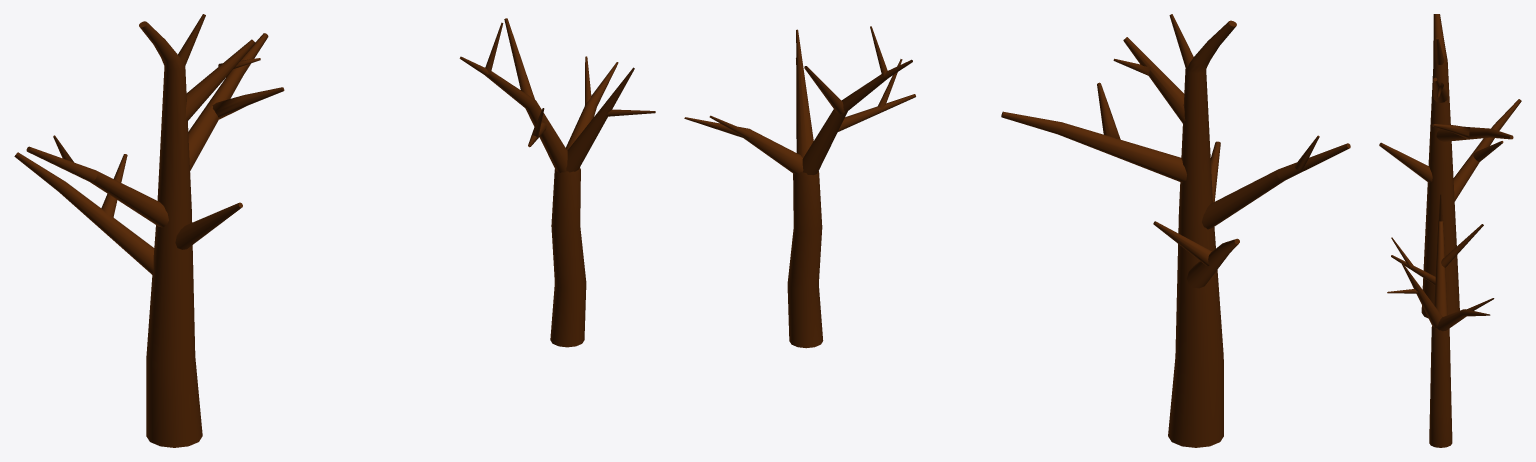
Rendered from Tree.fbx.
3 views of the same model, side by side, from view 1: azimuth 30°, elevation 25°; view 2: azimuth 150°, elevation 25°; view 3: azimuth 270°, elevation 25° (orthographic). The views are drawn at different scales.
Parts seen in each view (by area): view 1: Cylinder.003, Cylinder.004; view 2: Cylinder.003, Cylinder.004; view 3: Cylinder.003, Cylinder.004.
Part boxes in pixels (left/top/right/bottom): Cylinder.003: left=14, top=14, right=284, bottom=447; Cylinder.004: left=459, top=18, right=655, bottom=347; Cylinder.003: left=1001, top=14, right=1350, bottom=447; Cylinder.004: left=684, top=26, right=915, bottom=348; Cylinder.003: left=1379, top=14, right=1521, bottom=318; Cylinder.004: left=1387, top=194, right=1494, bottom=447.
Bounding box in the file's own units: 8128 × 5214 × 2336.
